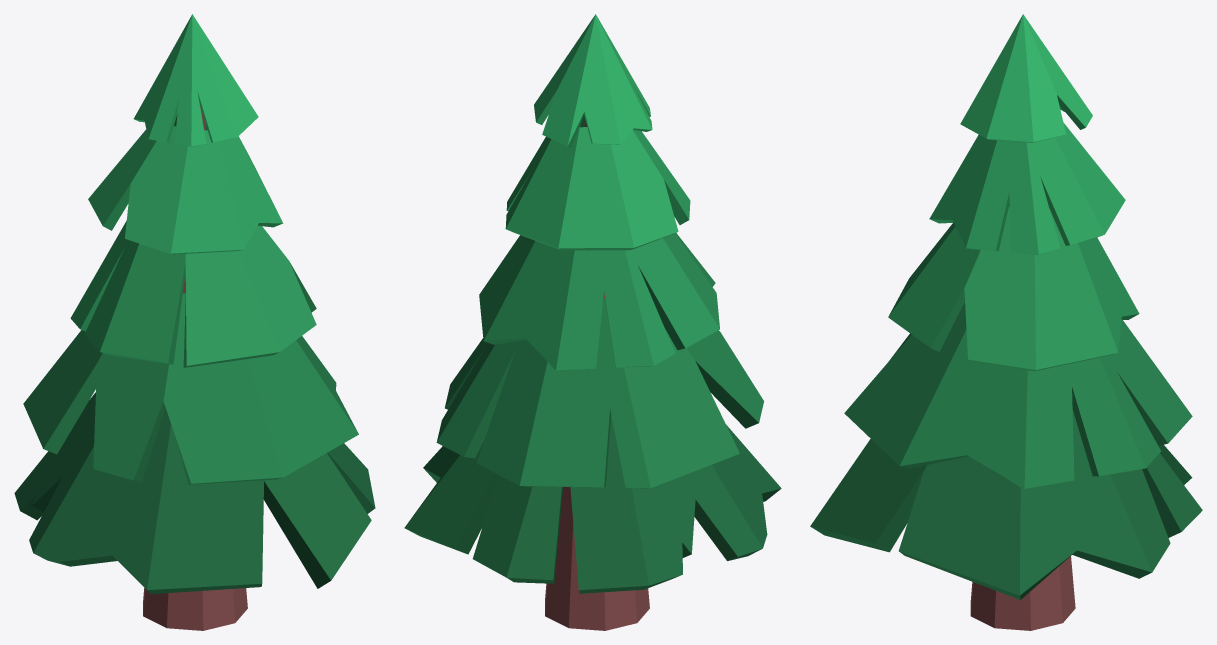
Rendered from tree2.glb.
3 views of the same model, side by side, from view 1: azimuth 30°, elevation 25°; view 2: azimuth 150°, elevation 25°; view 3: azimuth 270°, elevation 25° (orthographic).
Visible parts, largest first — view 1: Circle, Circle.001, Circle.002, Circle.003, Circle.004, Cylinder.005; view 2: Circle.001, Circle, Circle.002, Circle.003, Circle.004, Cylinder.005; view 3: Circle, Circle.001, Circle.002, Circle.003, Circle.004, Cylinder.005.
Part boxes in pixels (<box>): Circle: <box>14,392,375,594</box>; Circle.001: <box>23,293,358,484</box>; Circle.002: <box>70,221,316,367</box>; Circle.003: <box>88,115,283,254</box>; Circle.004: <box>133,14,258,146</box>; Cylinder.005: <box>143,106,247,630</box>; Circle.001: <box>436,298,763,488</box>; Circle: <box>404,415,781,593</box>; Circle.002: <box>479,233,719,370</box>; Circle.003: <box>505,114,690,250</box>; Circle.004: <box>534,14,652,147</box>; Cylinder.005: <box>545,119,649,630</box>; Circle: <box>810,410,1202,599</box>; Circle.001: <box>844,302,1192,488</box>; Circle.002: <box>888,206,1139,371</box>; Circle.003: <box>929,122,1125,254</box>; Circle.004: <box>960,14,1092,142</box>; Cylinder.005: <box>970,204,1075,630</box>.
Size of the model in its own units: 2.8 by 4.71 by 2.82.
